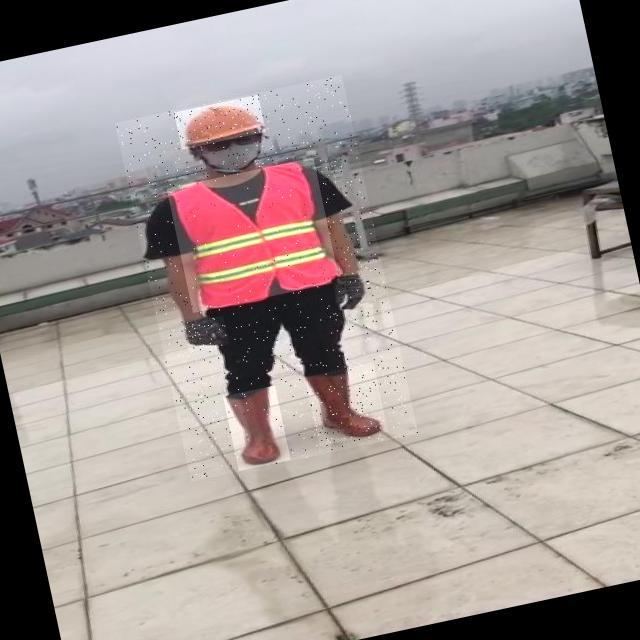Gloves: (331, 268, 373, 310), (183, 315, 229, 352)
Helmet: (174, 95, 266, 150)
Human: (115, 75, 418, 482)
Safety Boot: (305, 362, 388, 446), (223, 385, 292, 471)
Safety Vest: (167, 157, 340, 312)
